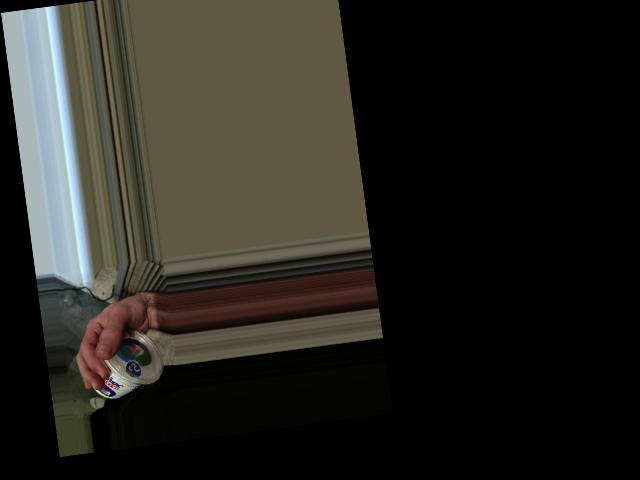cotage: (83, 326, 169, 401)
